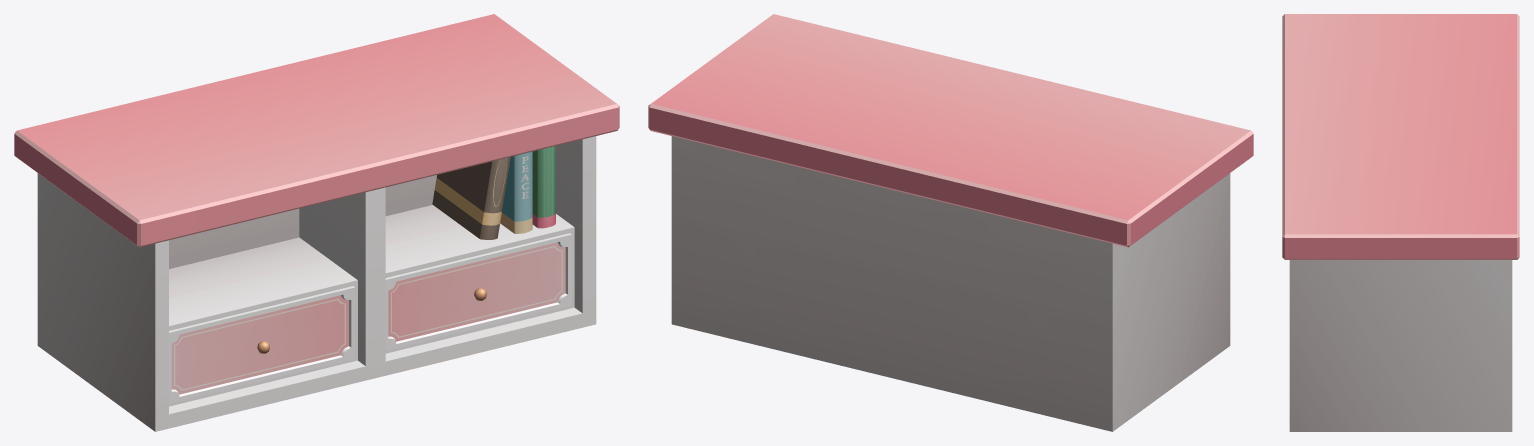
File: Doll_OB_Shelf_002.FBX
The picture shows the model from 3 angles, left to right: view 1: azimuth 30°, elevation 25°; view 2: azimuth 150°, elevation 25°; view 3: azimuth 270°, elevation 25°; orthographic projection. The views are drawn at different scales.
Parts seen in each view (by area): view 1: Doll_OB_Shelf_002; view 2: Doll_OB_Shelf_002; view 3: Doll_OB_Shelf_002.
Boxes of the visible parts, left/top/right/bottom form: Doll_OB_Shelf_002: left=14, top=14, right=619, bottom=431; Doll_OB_Shelf_002: left=648, top=14, right=1253, bottom=431; Doll_OB_Shelf_002: left=1282, top=14, right=1519, bottom=431.
Bounding box in the file's own units: 87.01 × 37.56 × 39.23.
